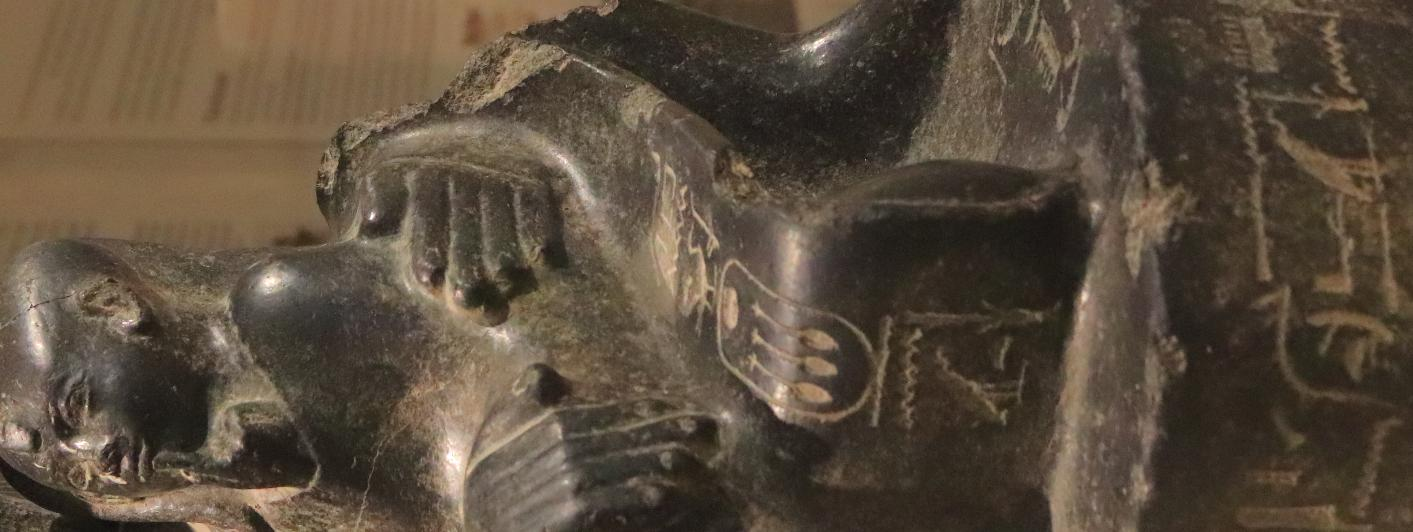Senenmut: (0, 0, 826, 532)
